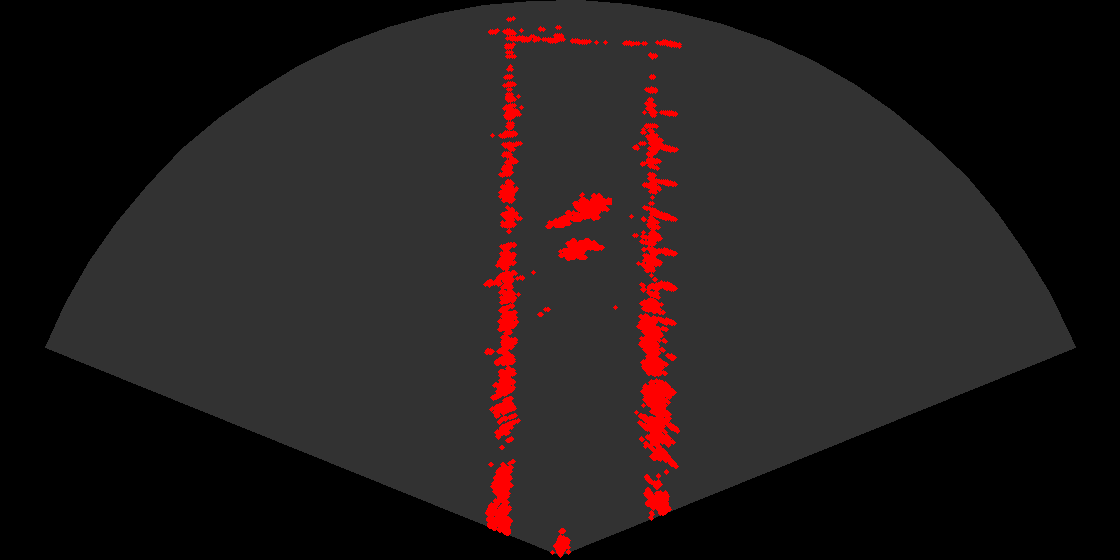AUV: (552, 236, 608, 268)
frogman: (544, 186, 612, 233)
